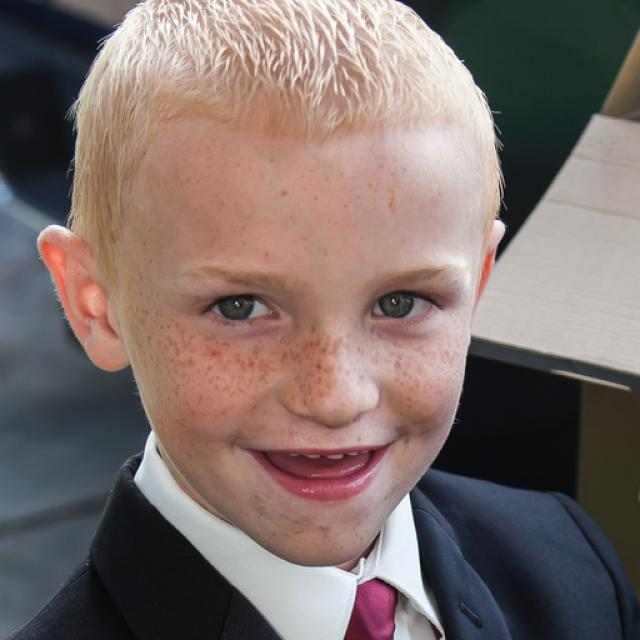Pigmentation: (130, 302, 277, 423), (362, 324, 465, 412), (277, 321, 361, 409)
